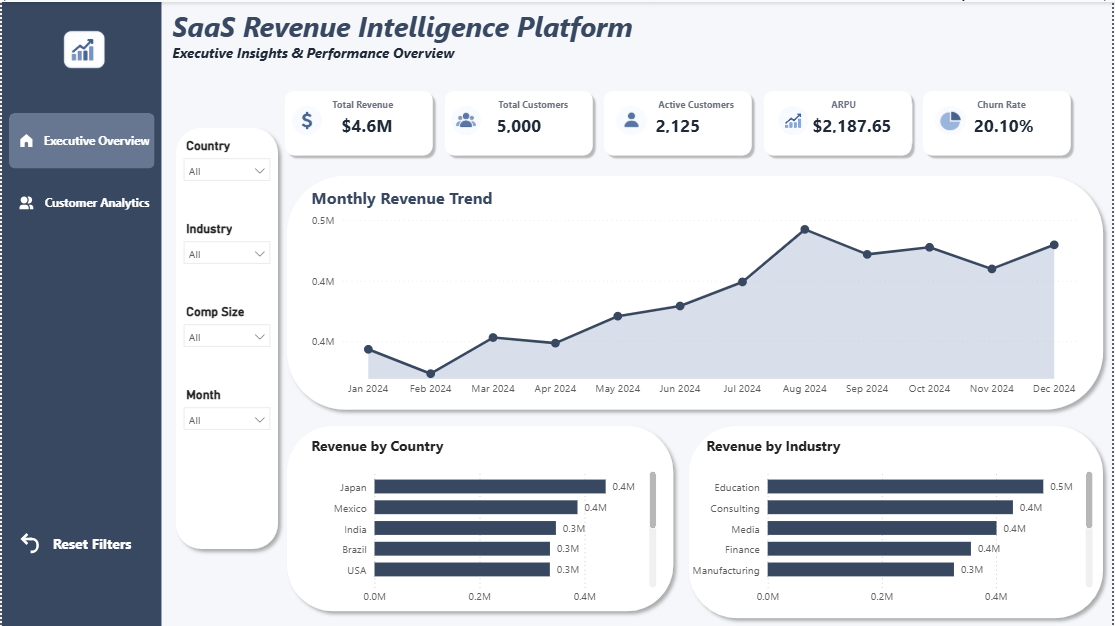

The page's visual inventory and layout, read from the dashboard file:
{"tool":"powerbi","page":{"name":"Executive Overview","canvas":[1280,720],"ordinal":0},"visuals":[{"type":"textbox","box":[192,0,560,80],"z":0},{"type":"shape","box":[0,0,184,720],"z":1000},{"type":"image","box":[64,32,64,48],"z":2000},{"type":"actionButton","title":"Customer Analytics","box":[8,200,168,64],"z":3000},{"type":"actionButton","box":[8,128,168,64],"z":4000},{"type":"image","box":[16,152,24,16],"z":5000},{"type":"image","box":[16,224,24,16],"z":6000},{"type":"shape","box":[320,96,184,88],"z":9000},{"type":"cardVisual","fields":{"Data":["dim_customer.Total Revenue"]},"box":[344,112,136,56],"z":10000},{"type":"textbox","box":[384,104,104,32],"z":11000},{"type":"image","box":[312,120,80,40],"z":12000},{"type":"shape","box":[504,96,184,88],"z":13000},{"type":"cardVisual","fields":{"Data":["dim_customer.Total Customers"]},"box":[528,112,136,56],"z":14000},{"type":"textbox","box":[568,104,104,40],"z":15000},{"type":"image","box":[496,120,80,40],"z":16000},{"type":"shape","box":[688,96,184,88],"z":17000},{"type":"cardVisual","fields":{"Data":["dim_customer.Active Customers"]},"box":[712,112,136,56],"z":18000},{"type":"textbox","box":[752,104,104,40],"z":19000},{"type":"image","box":[688,120,80,40],"z":20000},{"type":"shape","box":[872,96,184,88],"z":21000},{"type":"cardVisual","fields":{"Data":["dim_customer.ARPU"]},"box":[904,112,152,56],"z":22000},{"type":"textbox","box":[936,104,104,40],"z":23000},{"type":"image","box":[872,120,80,40],"z":24000},{"type":"shape","box":[1056,96,184,88],"z":25000},{"type":"cardVisual","fields":{"Data":["dim_customer.Churn Rate"]},"box":[1080,112,152,56],"z":26000},{"type":"textbox","box":[1120,104,104,40],"z":27000},{"type":"image","box":[1056,120,80,40],"z":28000},{"type":"shape","box":[320,192,960,288],"z":29000},{"type":"stackedAreaChart","fields":{"Category":["dim_date.Month Year"],"Y":["dim_customer.Total Revenue"]},"box":[352,224,896,240],"z":30000},{"type":"textbox","box":[352,208,872,40],"z":31000},{"type":"shape","box":[320,480,464,232],"z":32000},{"type":"clusteredBarChart","fields":{"Category":["dim_customer.country"],"Y":["dim_customer.Total Revenue"]},"box":[344,528,416,176],"z":33000},{"type":"textbox","box":[352,496,400,32],"z":34000},{"type":"shape","box":[784,480,496,240],"z":35000},{"type":"clusteredBarChart","fields":{"Category":["dim_customer.industry"],"Y":["dim_customer.Total Revenue"]},"box":[784,528,480,176],"z":36000},{"type":"textbox","box":[808,496,400,32],"z":37000},{"type":"shape","box":[192,136,136,504],"z":38000},{"type":"slicer","fields":{"Values":["dim_date.Month Year"]},"box":[200,440,120,80],"z":39000},{"type":"slicer","fields":{"Values":["dim_customer.country"]},"box":[200,152,120,80],"z":40000},{"type":"slicer","fields":{"Values":["dim_customer.industry"]},"box":[200,248,120,80],"z":41000},{"type":"slicer","fields":{"Values":["dim_customer.company_size"]},"box":[200,344,120,72],"z":42000},{"type":"actionButton","box":[16,608,176,32],"z":43000}]}

Visuals, with their boxes in screenshot pixels (x1, y1, x2, y2), scaled from the page's 1280x720 canvas onto the 1115x626 screenshot:
textbox: (167, 0, 655, 70)
shape: (0, 0, 160, 625)
image: (56, 28, 112, 70)
"Customer Analytics" actionButton: (7, 174, 153, 230)
actionButton: (7, 111, 153, 167)
image: (14, 132, 35, 146)
image: (14, 195, 35, 209)
shape: (279, 83, 439, 160)
cardVisual - dim_customer.Total Revenue: (300, 97, 418, 146)
textbox: (334, 90, 425, 118)
image: (272, 104, 341, 139)
shape: (439, 83, 599, 160)
cardVisual - dim_customer.Total Customers: (460, 97, 578, 146)
textbox: (495, 90, 585, 125)
image: (432, 104, 502, 139)
shape: (599, 83, 760, 160)
cardVisual - dim_customer.Active Customers: (620, 97, 739, 146)
textbox: (655, 90, 746, 125)
image: (599, 104, 669, 139)
shape: (760, 83, 920, 160)
cardVisual - dim_customer.ARPU: (787, 97, 920, 146)
textbox: (815, 90, 906, 125)
image: (760, 104, 829, 139)
shape: (920, 83, 1080, 160)
cardVisual - dim_customer.Churn Rate: (941, 97, 1073, 146)
textbox: (976, 90, 1066, 125)
image: (920, 104, 990, 139)
shape: (279, 167, 1114, 417)
stackedAreaChart - dim_date.Month Year x dim_customer.Total Revenue: (307, 195, 1087, 403)
textbox: (307, 181, 1066, 216)
shape: (279, 417, 683, 619)
clusteredBarChart - dim_customer.country x dim_customer.Total Revenue: (300, 459, 662, 612)
textbox: (307, 431, 655, 459)
shape: (683, 417, 1114, 625)
clusteredBarChart - dim_customer.industry x dim_customer.Total Revenue: (683, 459, 1101, 612)
textbox: (704, 431, 1052, 459)
shape: (167, 118, 286, 556)
slicer - dim_date.Month Year: (174, 383, 279, 452)
slicer - dim_customer.country: (174, 132, 279, 202)
slicer - dim_customer.industry: (174, 216, 279, 285)
slicer - dim_customer.company_size: (174, 299, 279, 362)
actionButton: (14, 529, 167, 556)
